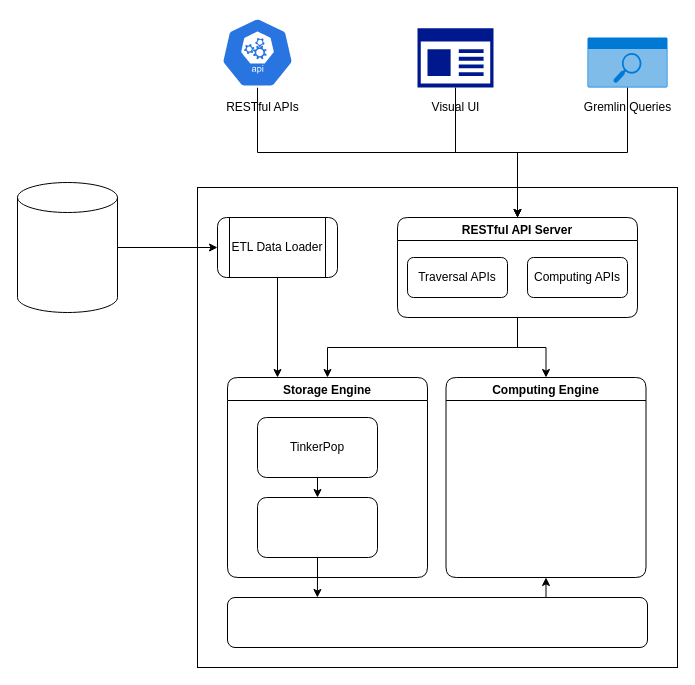
Image size: 695x685. Some labels were removed from this diagram. Each missing label, with the centre of its shape:
Data Source: point 67,247
HDFS: point 437,622
RocksDB: point 317,527
Search: point 627,62
